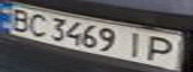3: (45, 16, 69, 43)
4: (63, 20, 84, 46)
6: (78, 22, 100, 50)
9: (96, 25, 121, 53)
B: (3, 6, 36, 33)
C: (24, 11, 51, 38)
I: (121, 29, 151, 60)
P: (142, 34, 184, 64)
